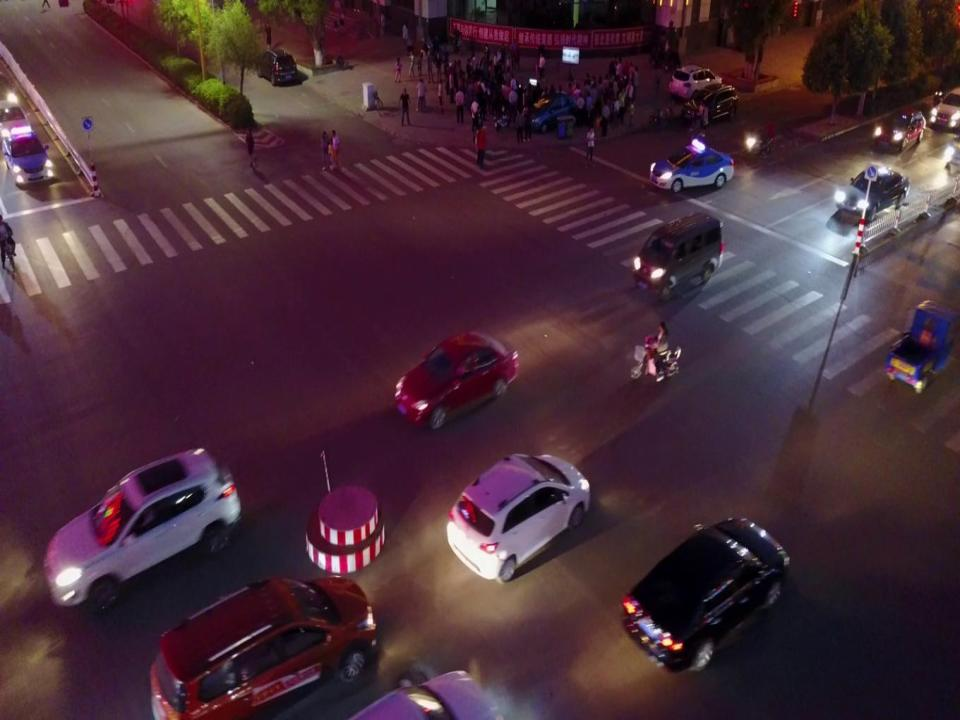car: (40, 445, 242, 615), (621, 513, 793, 673), (444, 451, 593, 584), (392, 323, 520, 430), (834, 161, 908, 225), (648, 138, 736, 191), (0, 122, 54, 188), (681, 81, 739, 127), (667, 63, 724, 100), (253, 44, 298, 90), (0, 93, 35, 150), (929, 85, 960, 136)
van: (147, 573, 378, 717), (631, 208, 724, 304), (873, 104, 926, 150)
